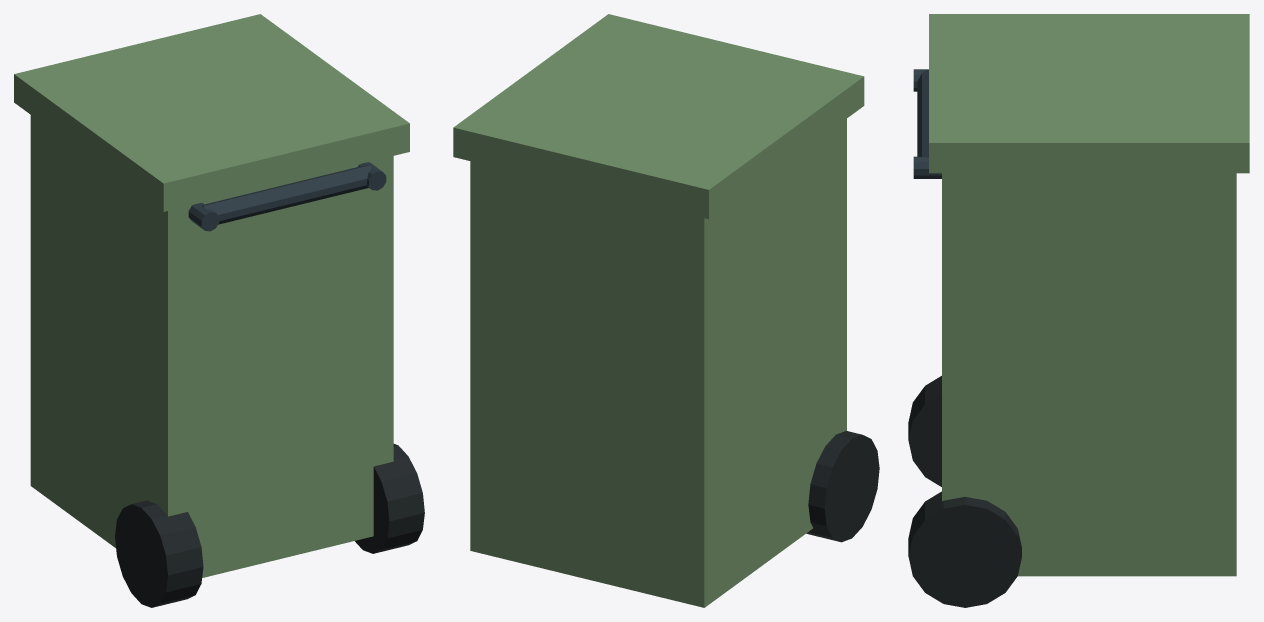
Rendered from wheeled_bin.glb.
The picture shows the model from 3 angles, left to right: view 1: azimuth 30°, elevation 25°; view 2: azimuth 150°, elevation 25°; view 3: azimuth 270°, elevation 25°; orthographic projection. The views are drawn at different scales.
Parts seen in each view (by area): view 1: wheeled_bin; view 2: wheeled_bin; view 3: wheeled_bin.
Boxes of the visible parts, x1,y1,x2,y2 form: wheeled_bin: (14, 14, 424, 607); wheeled_bin: (453, 14, 879, 607); wheeled_bin: (908, 14, 1249, 607).
Size of the model in its own units: 0.615 by 0.9875 by 0.66.
